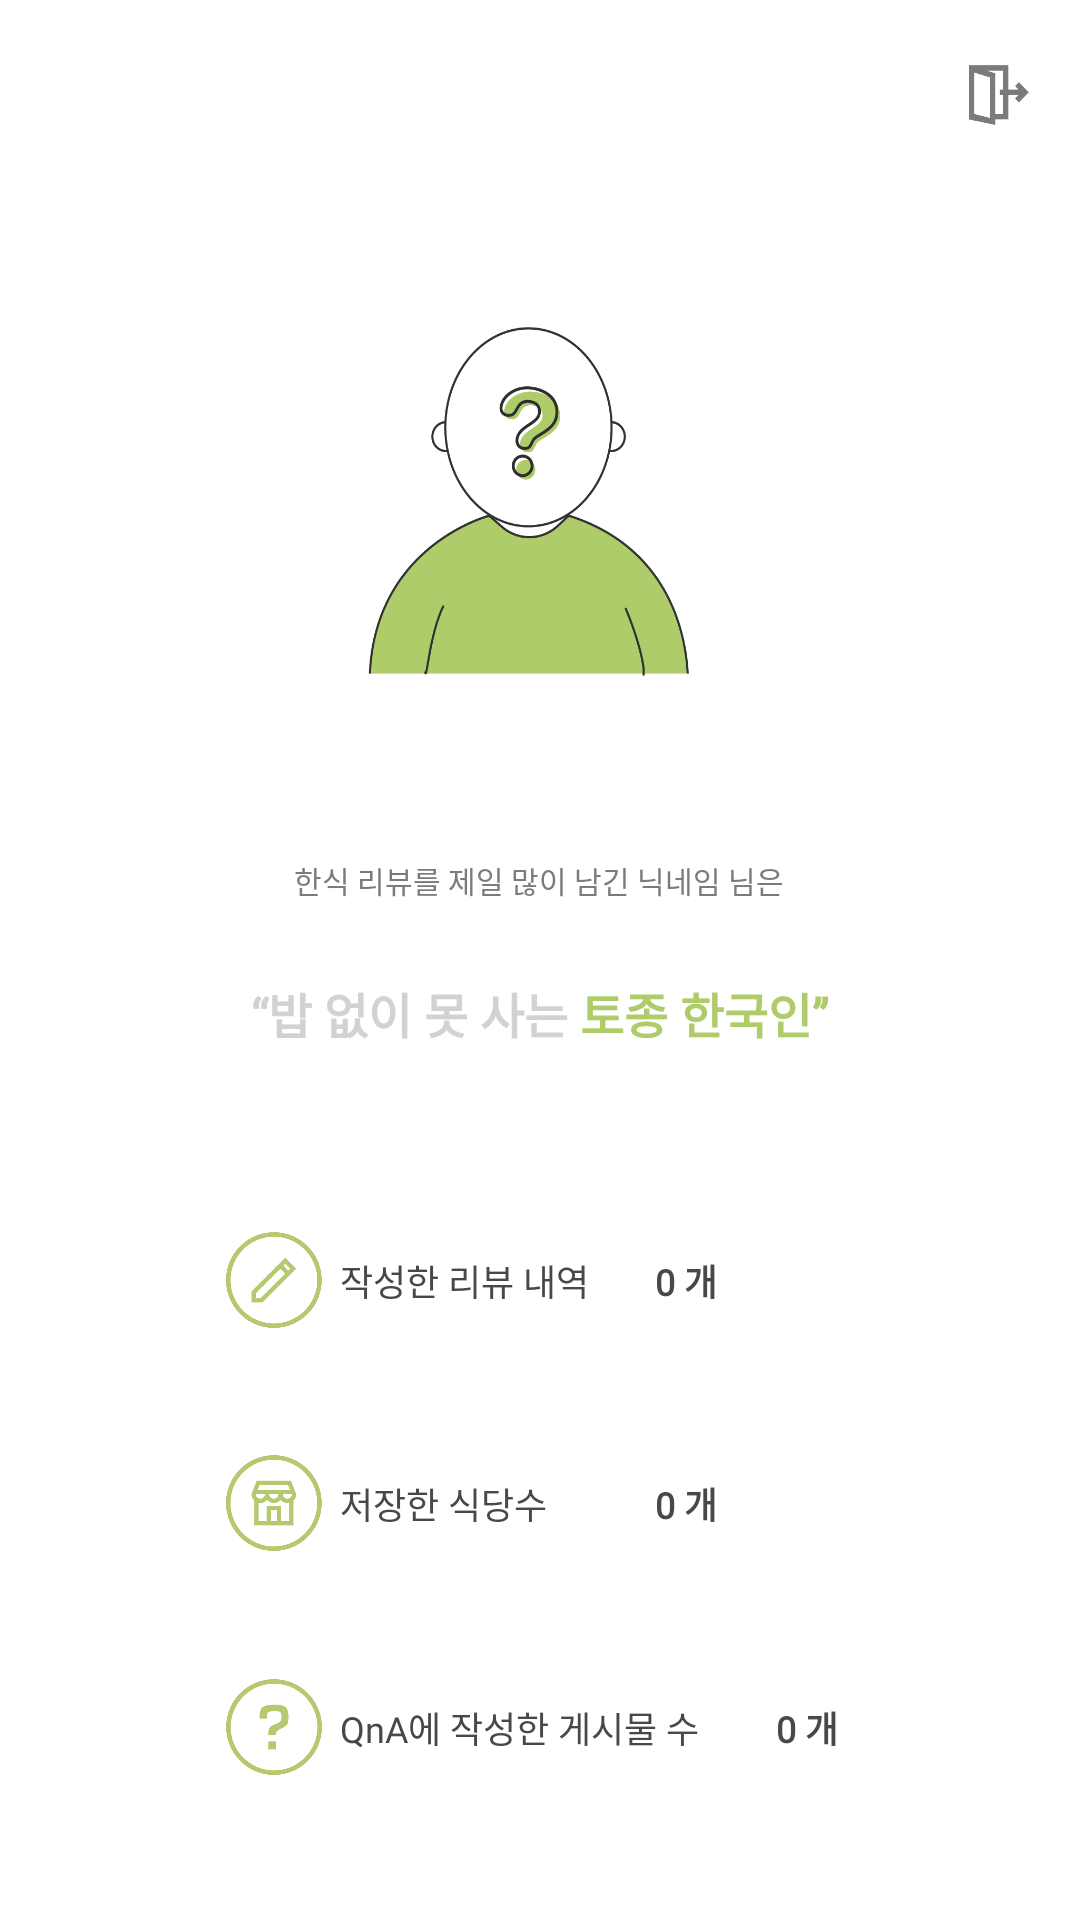

Icons on this 1080×1920 Android screen, each with the point to tap as [x,y]:
mypage basic: [528,501]
review: [274,1280]
